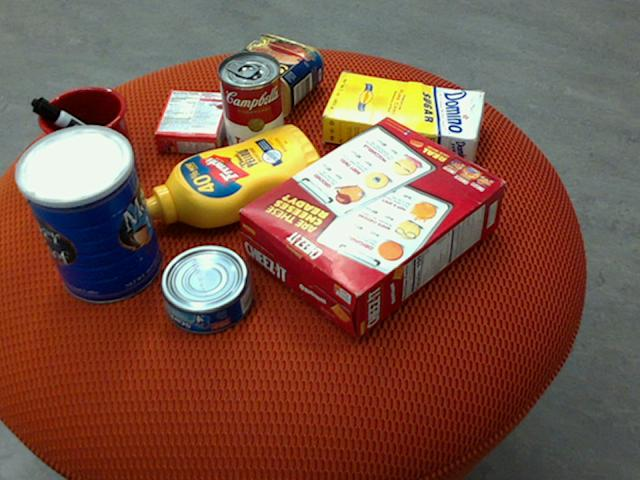cracker_box: (238, 115, 507, 337)
gelatin_box: (153, 89, 232, 153)
large_marker: (30, 98, 132, 167)
master_chef_can: (12, 126, 162, 304)
mug: (29, 87, 135, 191)
mustard_bottle: (137, 124, 325, 228)
potted_meat_can: (218, 34, 324, 118)
sugar_box: (321, 72, 486, 163)
tomato_soup_can: (217, 50, 284, 159)
tuna_fish_can: (160, 246, 253, 335)
